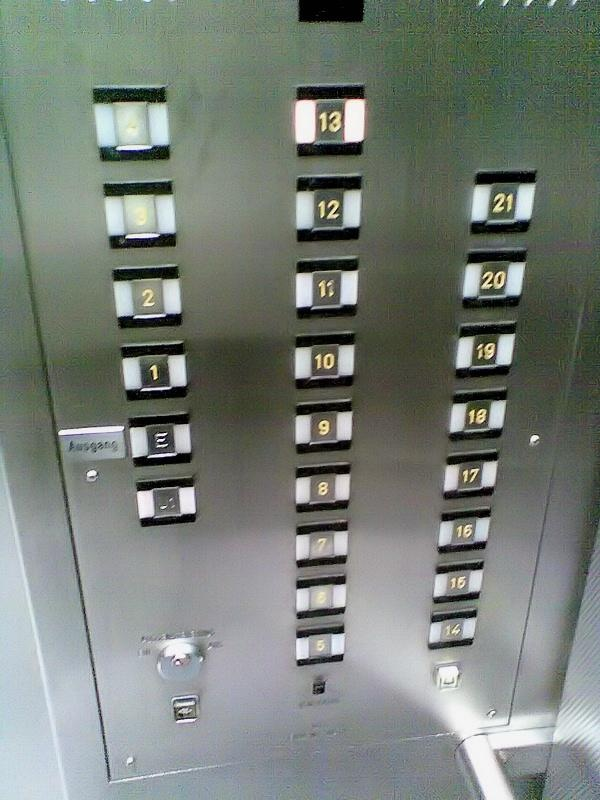1: (116, 338, 191, 402)
10: (291, 329, 359, 392)
11: (292, 252, 362, 321)
12: (291, 172, 364, 244)
13: (288, 80, 372, 160)
14: (426, 607, 480, 652)
15: (431, 559, 485, 604)
16: (436, 506, 494, 555)
17: (441, 448, 501, 501)
18: (447, 384, 510, 443)
19: (451, 317, 518, 379)
2: (109, 261, 187, 331)
20: (459, 243, 529, 312)
21: (466, 164, 539, 236)
3: (98, 176, 180, 253)
4: (86, 83, 174, 163)
5: (293, 623, 349, 669)
6: (292, 574, 348, 620)
7: (293, 517, 351, 569)
8: (293, 460, 352, 513)
9: (292, 397, 355, 456)
E: (126, 408, 194, 471)
U1: (134, 475, 199, 529)
alarm: (428, 657, 464, 695)
keyhole: (149, 637, 208, 687)
open: (167, 690, 203, 728)
